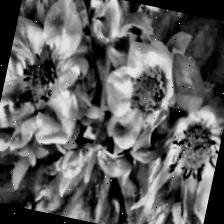Blossom Blight: (162, 106, 224, 188), (11, 38, 68, 118)
